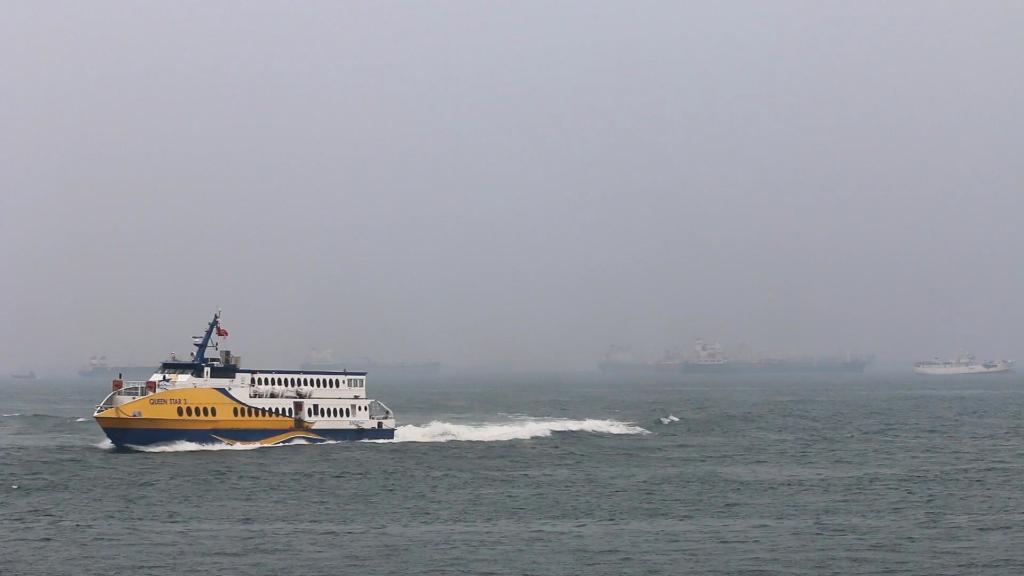PassengerShip: (93, 304, 399, 452)
